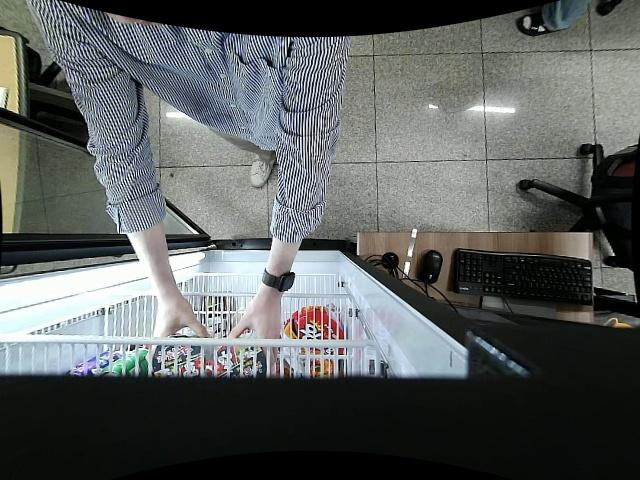00_hand: (225, 303, 283, 377), (152, 302, 210, 343)
08_buldak_S: (150, 333, 207, 376), (215, 336, 266, 379)
